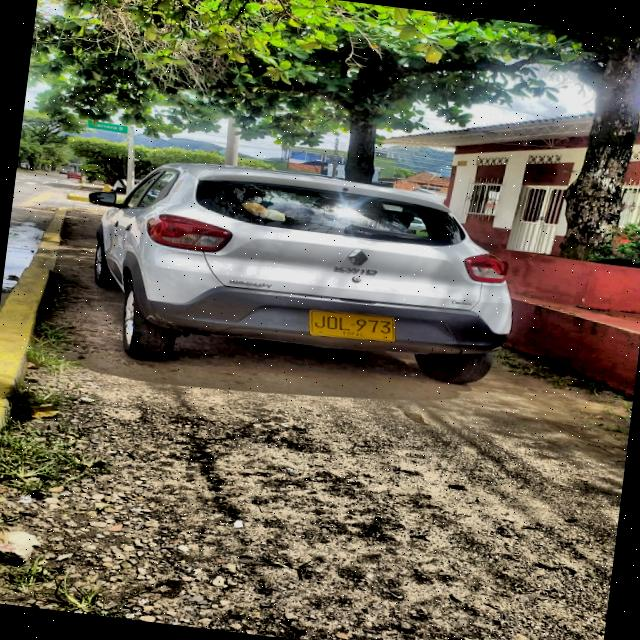3: (378, 320, 391, 334)
7: (366, 319, 379, 334)
9: (354, 318, 367, 332)
J: (313, 314, 326, 329)
L: (337, 316, 351, 331)
O: (325, 315, 338, 330)
